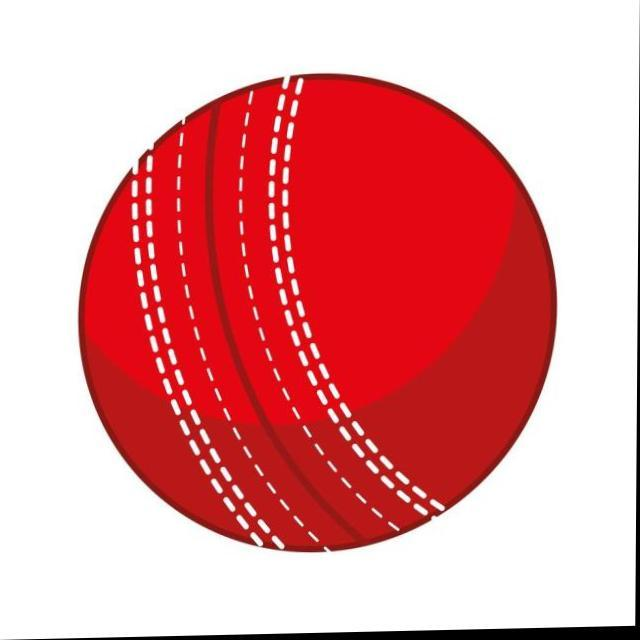cricket ball: (79, 74, 557, 555)
